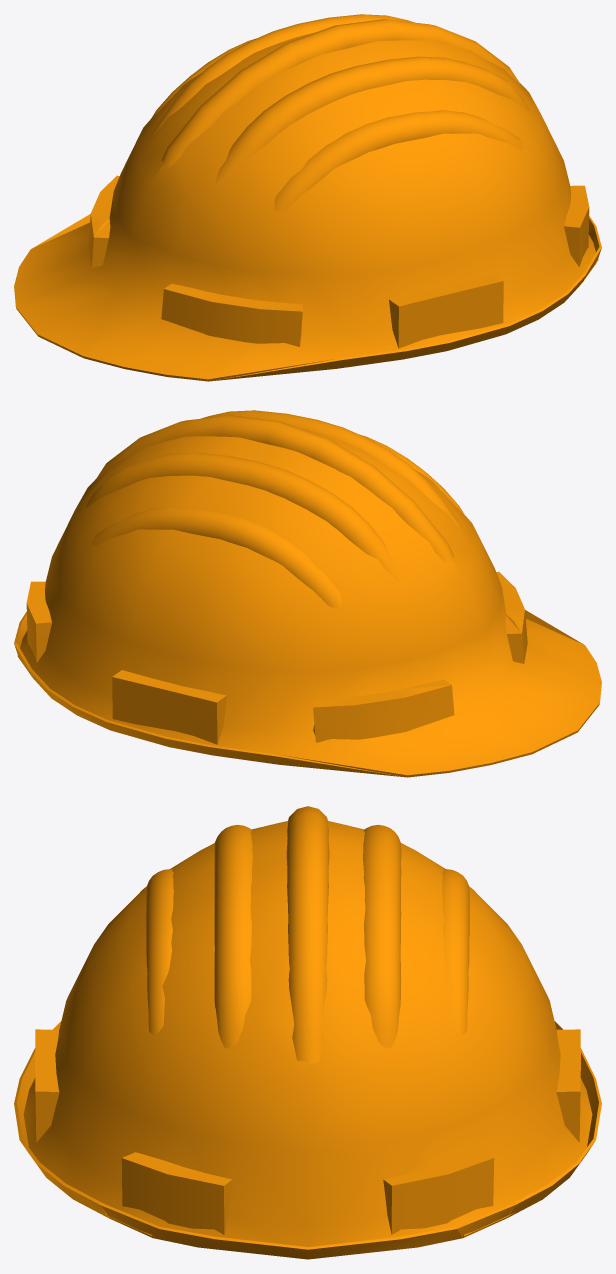
File: helmet.glb
3 renders of one model, top to bottom at view 1: azimuth 30°, elevation 25°; view 2: azimuth 150°, elevation 25°; view 3: azimuth 270°, elevation 25°, orthographic. The views are drawn at different scales.
Parts seen in each view (by area): view 1: helmet; view 2: helmet; view 3: helmet.
Boxes of the visible parts, <box> form: helmet: <box>14,14,601,381</box>; helmet: <box>14,410,601,777</box>; helmet: <box>14,806,601,1259</box>.
Bounding box in the file's own units: 0.7101 × 0.2983 × 0.5526.
